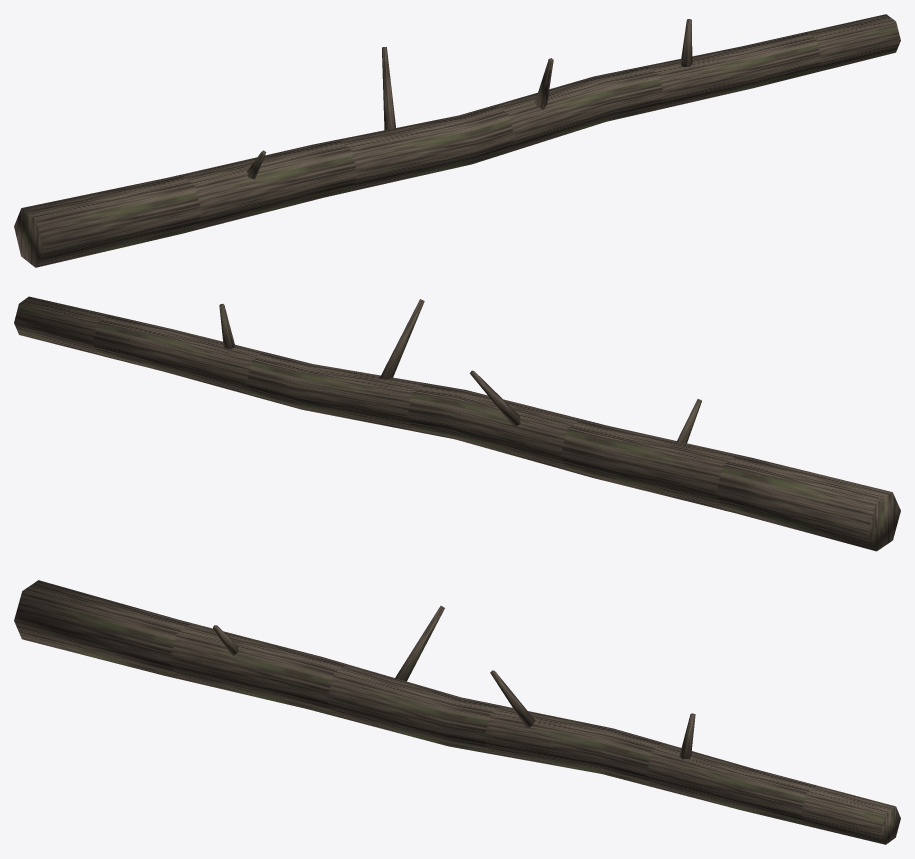
The model's file is Log_Fallen_2_LOD1.gltf.
The picture shows the model from 3 angles, top to bottom: view 1: azimuth 30°, elevation 25°; view 2: azimuth 150°, elevation 25°; view 3: azimuth 330°, elevation 25°; orthographic projection.
Parts seen in each view (by area): view 1: Log_Fallen_2_LOD1; view 2: Log_Fallen_2_LOD1; view 3: Log_Fallen_2_LOD1.
Part boxes in pixels (x1,y1,x2,y2): Log_Fallen_2_LOD1: [14, 14, 900, 267]; Log_Fallen_2_LOD1: [14, 296, 900, 551]; Log_Fallen_2_LOD1: [14, 580, 900, 844].
Size of the model in its own units: 11.01 by 1.28 by 1.34.
Materials: 1 (1 with a texture image).
